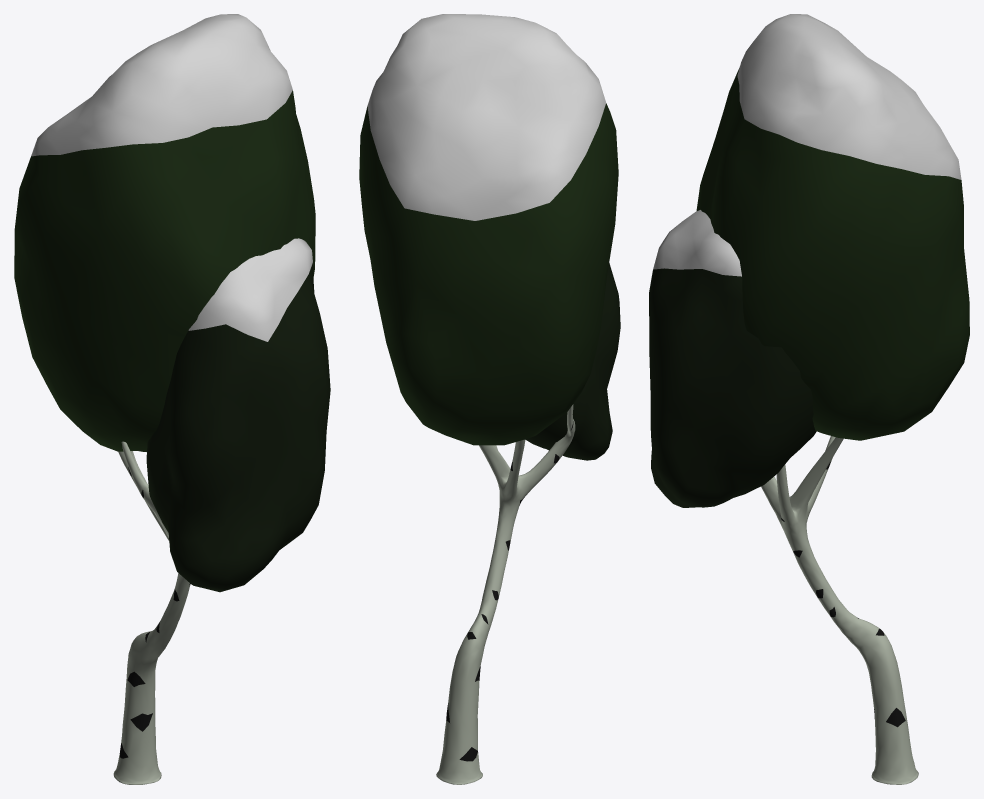
File: BirchTree_Snow_2.fbx
3 renders of one model, left to right at view 1: azimuth 30°, elevation 25°; view 2: azimuth 150°, elevation 25°; view 3: azimuth 270°, elevation 25°, orthographic. The views are drawn at different scales.
Visible parts, largest first — view 1: BirchTree_Snow_2; view 2: BirchTree_Snow_2; view 3: BirchTree_Snow_2.
Part boxes in pixels (left/top/right/bottom): BirchTree_Snow_2: left=14, top=14, right=330, bottom=784; BirchTree_Snow_2: left=359, top=14, right=620, bottom=784; BirchTree_Snow_2: left=649, top=14, right=969, bottom=784.
Size of the model in its own units: 243 by 278 by 716.
